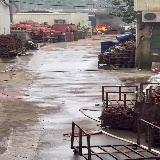fire: (96, 26, 107, 31)
